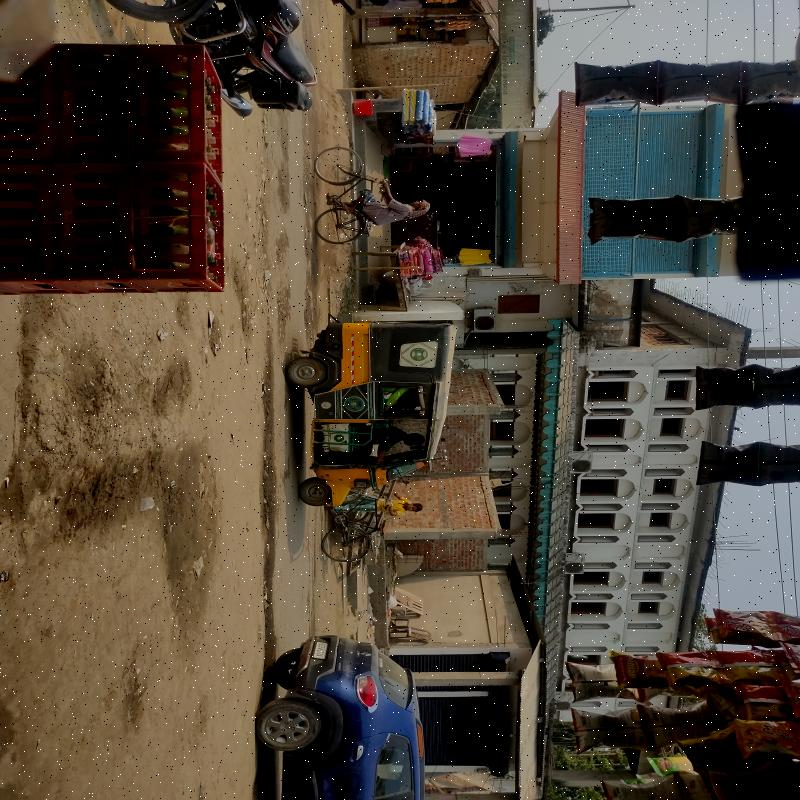auto: (284, 319, 452, 516)
